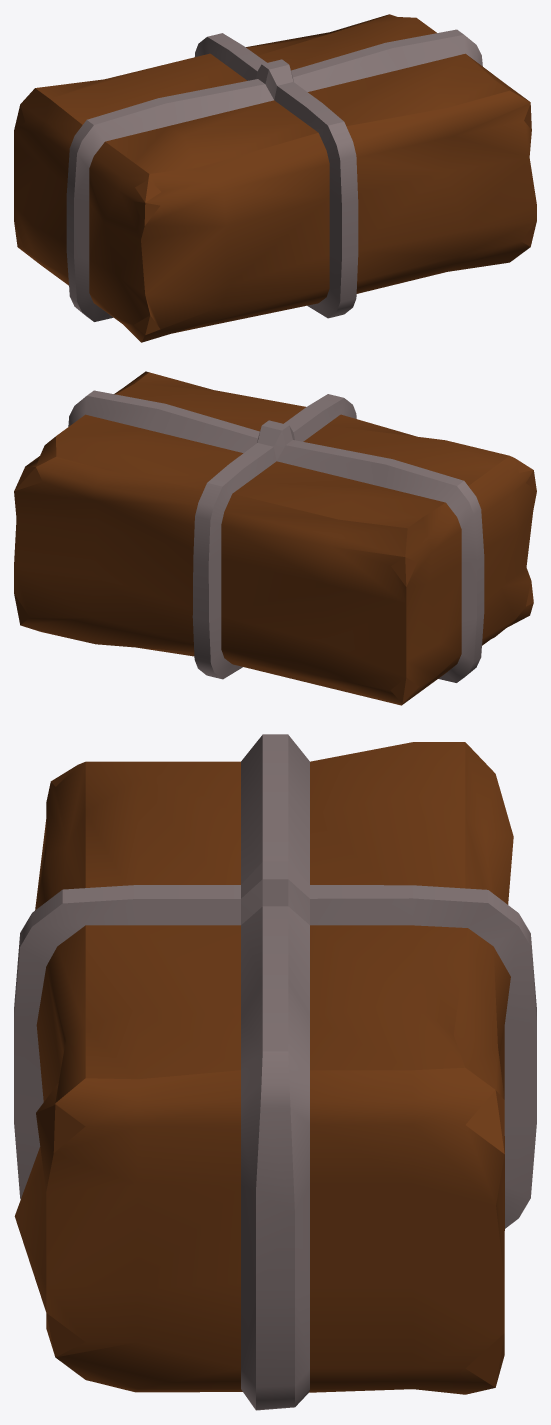
Rendered from PackageLowTier.fbx.
3 views of the same model, one above another, from view 1: azimuth 30°, elevation 25°; view 2: azimuth 150°, elevation 25°; view 3: azimuth 270°, elevation 25° (orthographic). The views are drawn at different scales.
Visible parts, largest first — view 1: Box001; view 2: Box001; view 3: Box001.
Boxes of the visible parts, box(x1,y1,x2,y2) form: Box001: box(14, 14, 536, 342); Box001: box(14, 371, 536, 705); Box001: box(14, 734, 536, 1410).
Size of the model in its own units: 18.89 by 9.54 by 11.85.
